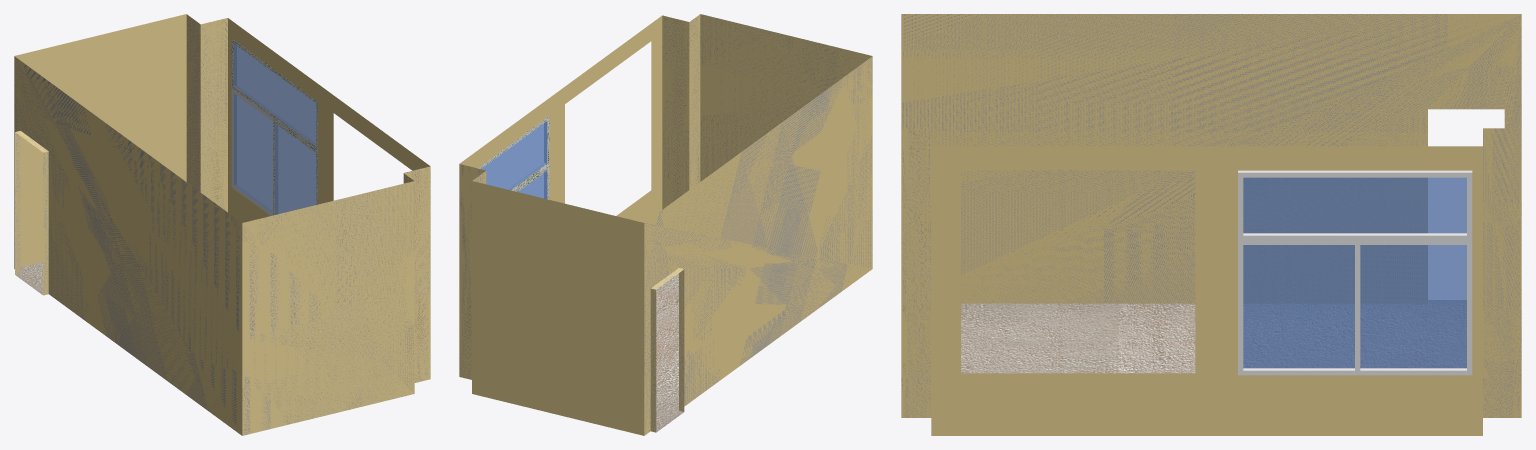
The model's file is DES022.obj.
The picture shows the model from 3 angles, left to right: view 1: azimuth 30°, elevation 25°; view 2: azimuth 150°, elevation 25°; view 3: azimuth 270°, elevation 25°; orthographic projection. The views are drawn at different scales.
Parts seen in each view (by area): view 1: Mesh7 DES022 Model, Mesh1 ventana1_1 DES022 Model; view 2: Mesh7 DES022 Model, Mesh1 ventana1_1 DES022 Model; view 3: Mesh7 DES022 Model, Mesh1 ventana1_1 DES022 Model.
Boxes of the visible parts, <box> form: Mesh7 DES022 Model: <box>14,14,430,435</box>; Mesh1 ventana1_1 DES022 Model: <box>231,38,317,215</box>; Mesh7 DES022 Model: <box>459,14,872,435</box>; Mesh1 ventana1_1 DES022 Model: <box>478,116,549,199</box>; Mesh7 DES022 Model: <box>901,14,1521,435</box>; Mesh1 ventana1_1 DES022 Model: <box>1238,170,1472,375</box>.
Size of the model in its own units: 3.07 by 3 by 5.83.
Materials: 7 (2 with a texture image).
